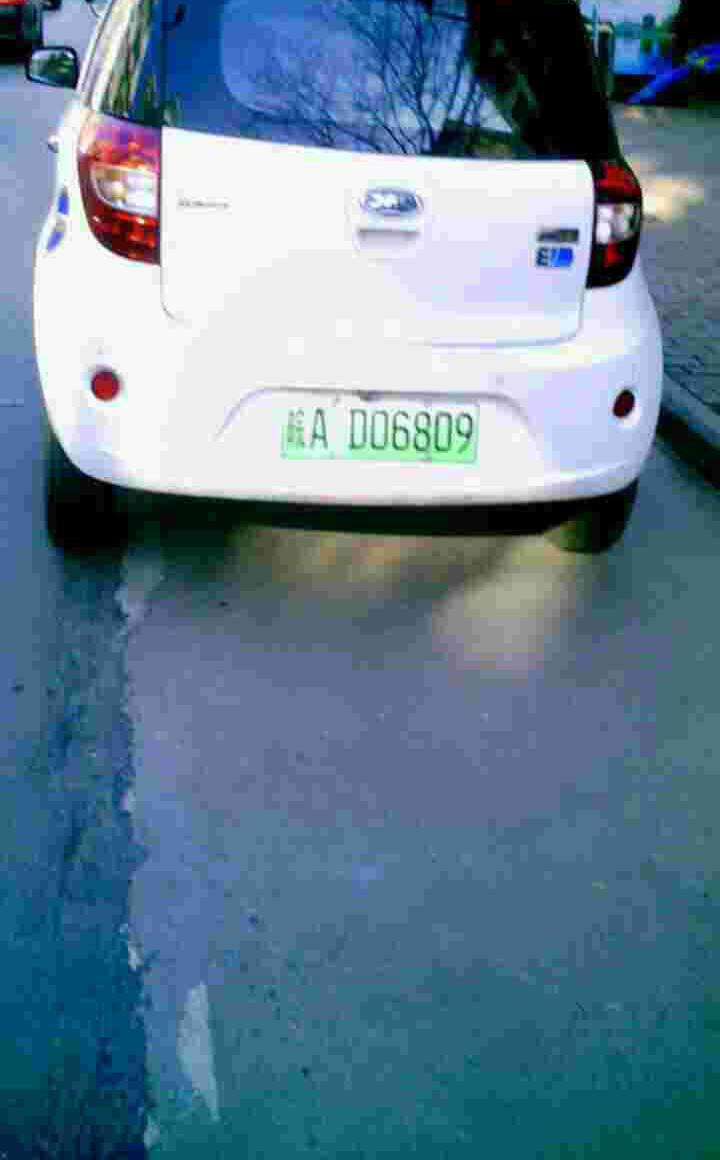car_id: (280, 403, 479, 462)
